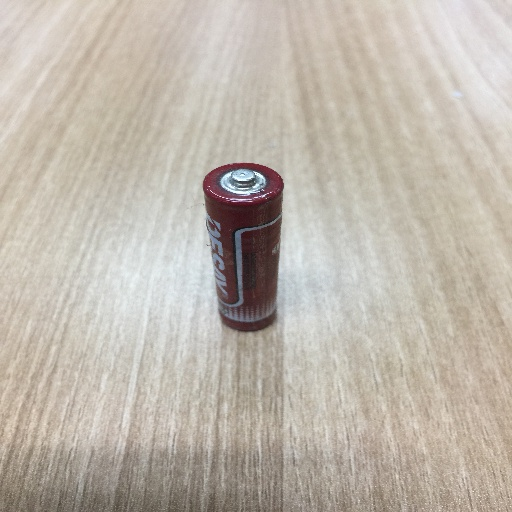Battery_0: (195, 154, 294, 341)
